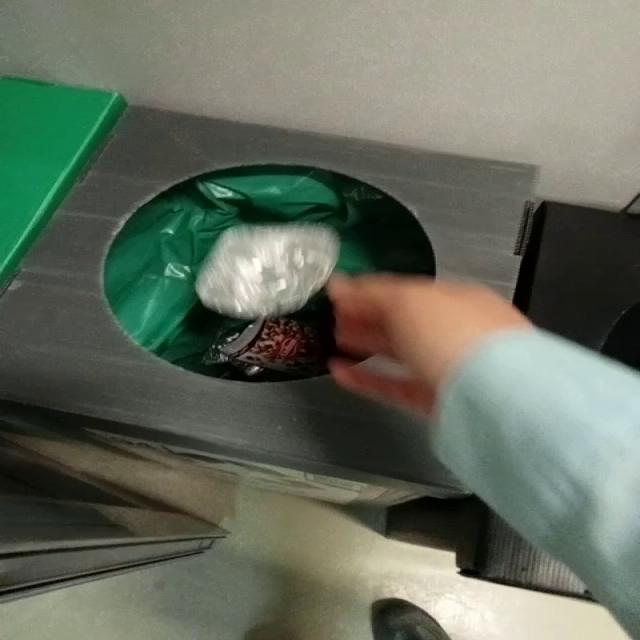bin: (1, 106, 537, 502)
metal: (196, 224, 340, 320)
